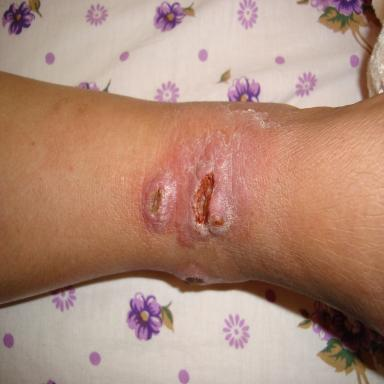Leishmanios: (175, 144, 236, 247), (143, 174, 176, 231)
